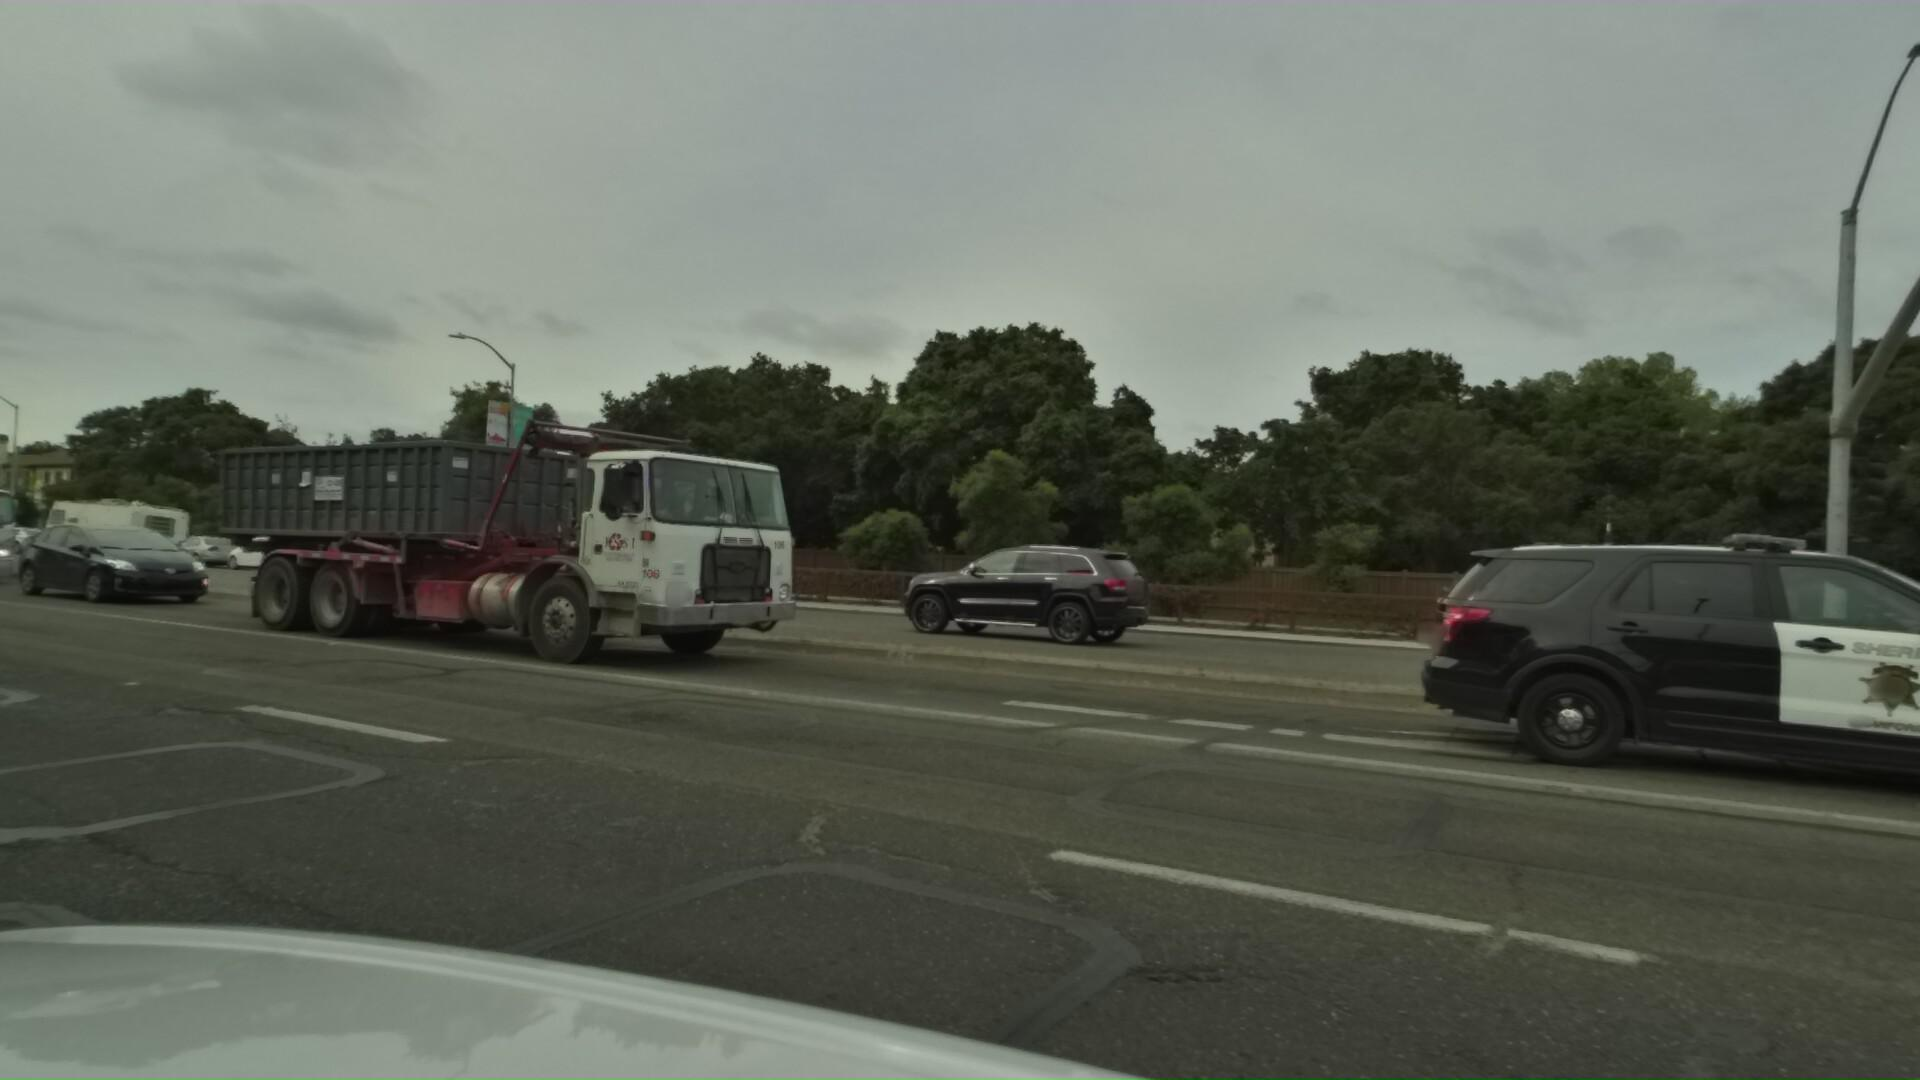car: (841, 535, 1104, 644), (0, 520, 200, 611), (222, 510, 404, 592), (502, 527, 671, 597), (208, 533, 313, 578), (148, 535, 243, 572), (0, 525, 63, 562)
emergency_vehicle: (1311, 521, 1920, 856)
other_vehicle: (24, 498, 186, 570)
truck: (154, 382, 795, 678), (0, 433, 44, 591)
